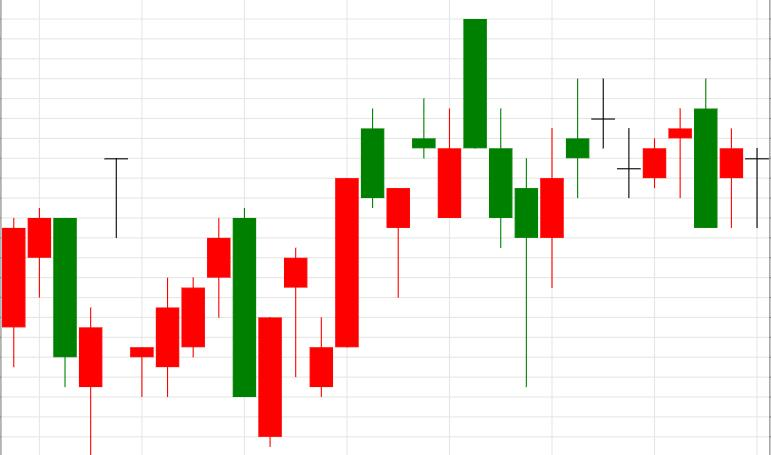bearish_engulfing_fall: (131, 209, 255, 398)
